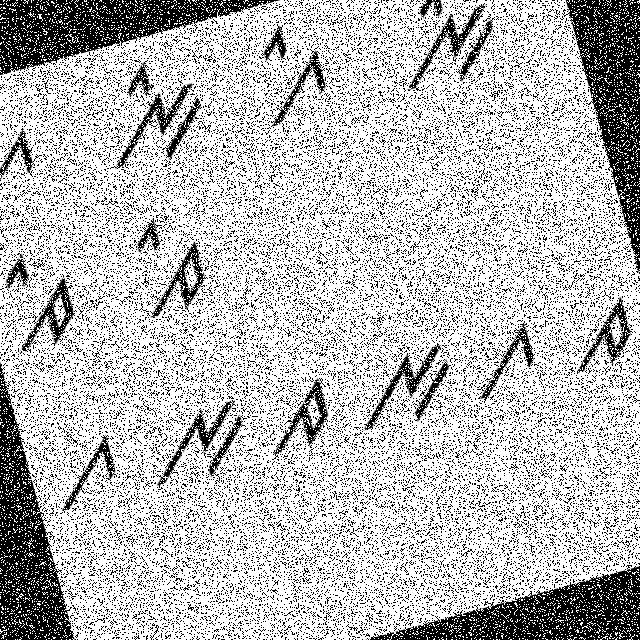ga: (31, 412, 132, 526), (454, 302, 548, 410)
gi: (229, 8, 346, 134), (0, 93, 53, 220)
nga: (128, 376, 258, 504), (336, 322, 464, 442)
ngi: (87, 49, 216, 187), (375, 0, 509, 99)
ta: (550, 280, 639, 389), (244, 363, 340, 459)
ti: (112, 198, 225, 330), (0, 237, 91, 367)
